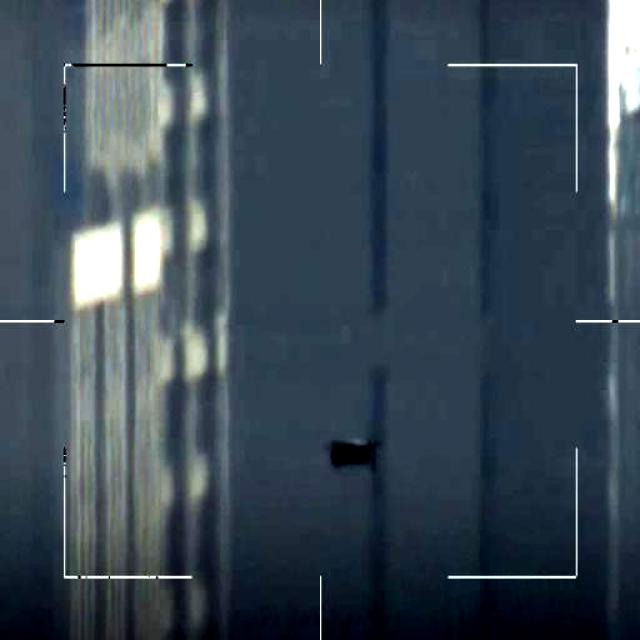bird: (332, 440, 375, 469)
